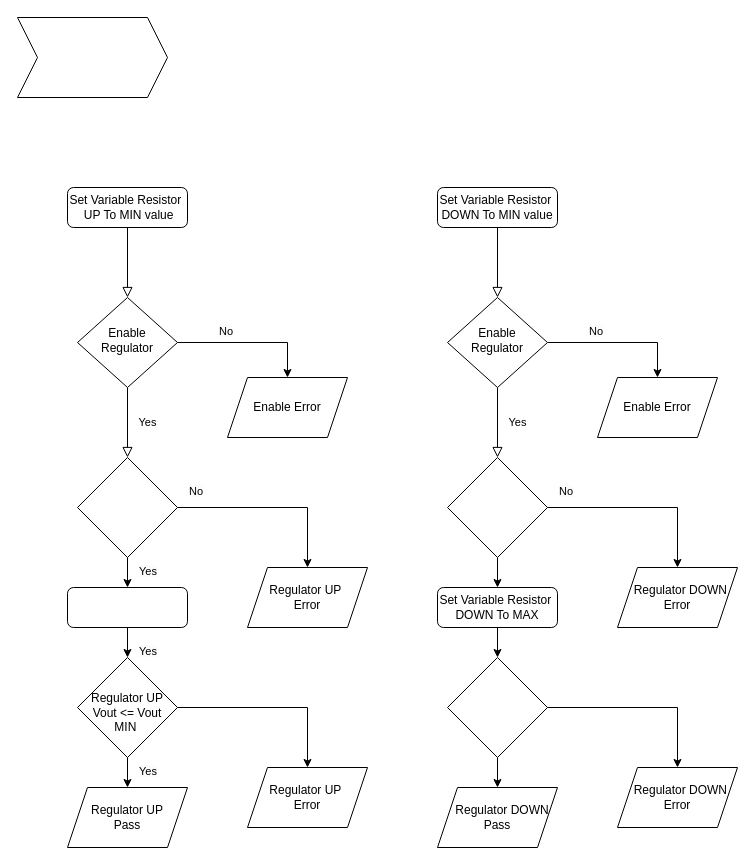
Image size: 755x865. Some labels were removed from this diagram. Here are the shapes that lost their labels. From the top down, the centre of each, then its label:
the point at 92,57: Voltage Regulator Init
the point at 127,507: Regulator UP Vout >= Vout MIN
the point at 497,507: Regulator DOWN Vout >= Vout MIN
the point at 127,607: Set Variable Resistor UP To MAX value
the point at 497,707: Regulator DOWN Vout <= Vout MIN
